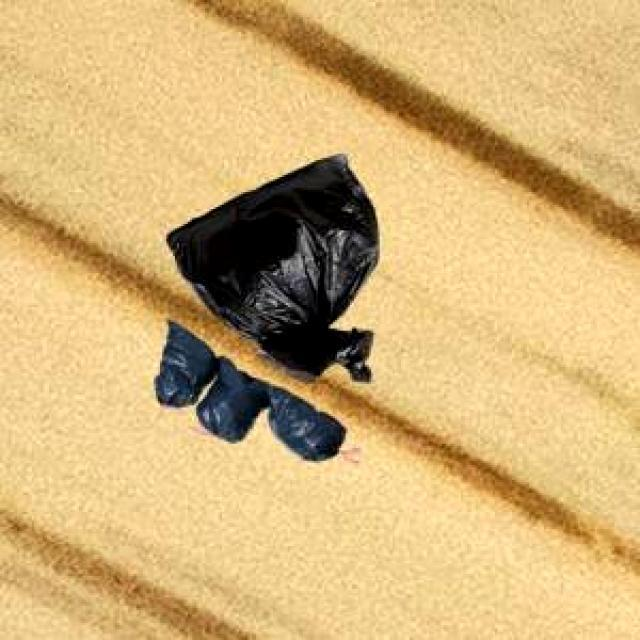Bolsa-de-plastico: (148, 147, 407, 465)
